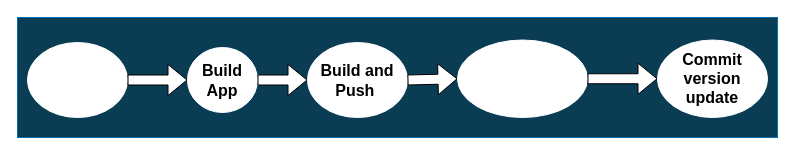
Image size: 795x155. Some labels were removed from this diagram. Each missing label, with the centre of its shape:
"Deploy to k8s cluster" belongs at (x=522, y=78).
"Increment version" belongs at (x=77, y=80).
